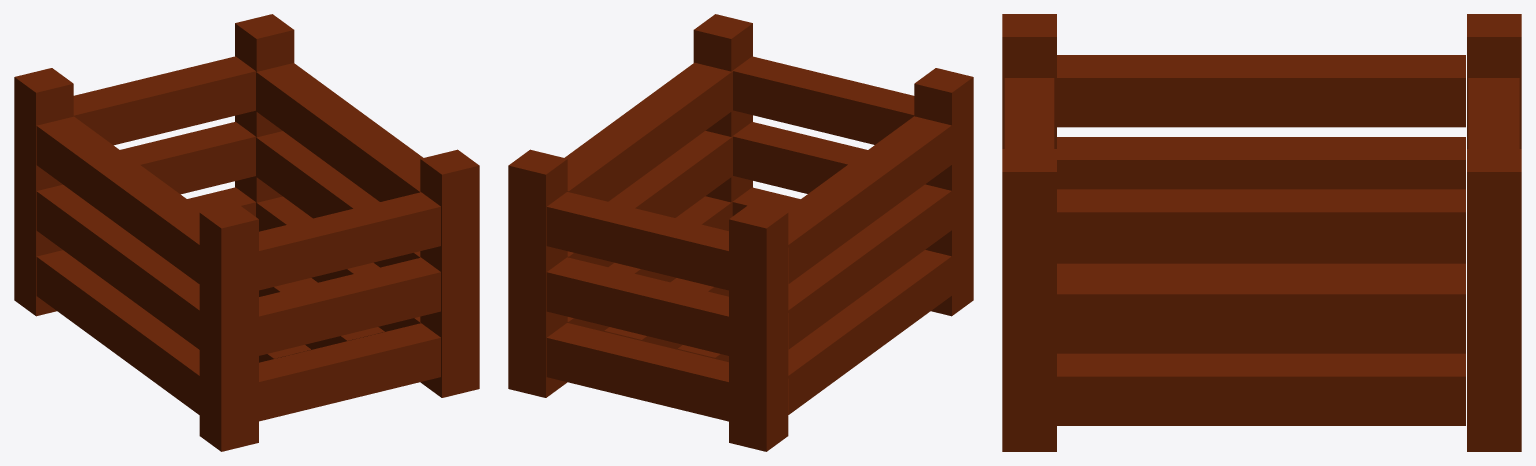
Rendered from wooden_basket_4.FBX.
3 views of the same model, side by side, from view 1: azimuth 30°, elevation 25°; view 2: azimuth 150°, elevation 25°; view 3: azimuth 270°, elevation 25° (orthographic). The views are drawn at different scales.
Visible parts, largest first — view 1: wooden_basket_4; view 2: wooden_basket_4; view 3: wooden_basket_4.
Boxes of the visible parts, x1,y1,x2,y2 form: wooden_basket_4: [14, 14, 479, 451]; wooden_basket_4: [508, 14, 973, 451]; wooden_basket_4: [1002, 14, 1521, 451].
Bounding box in the file's own units: 0.562 × 0.4649 × 0.7807.
Materials: 1 (1 with a texture image).
